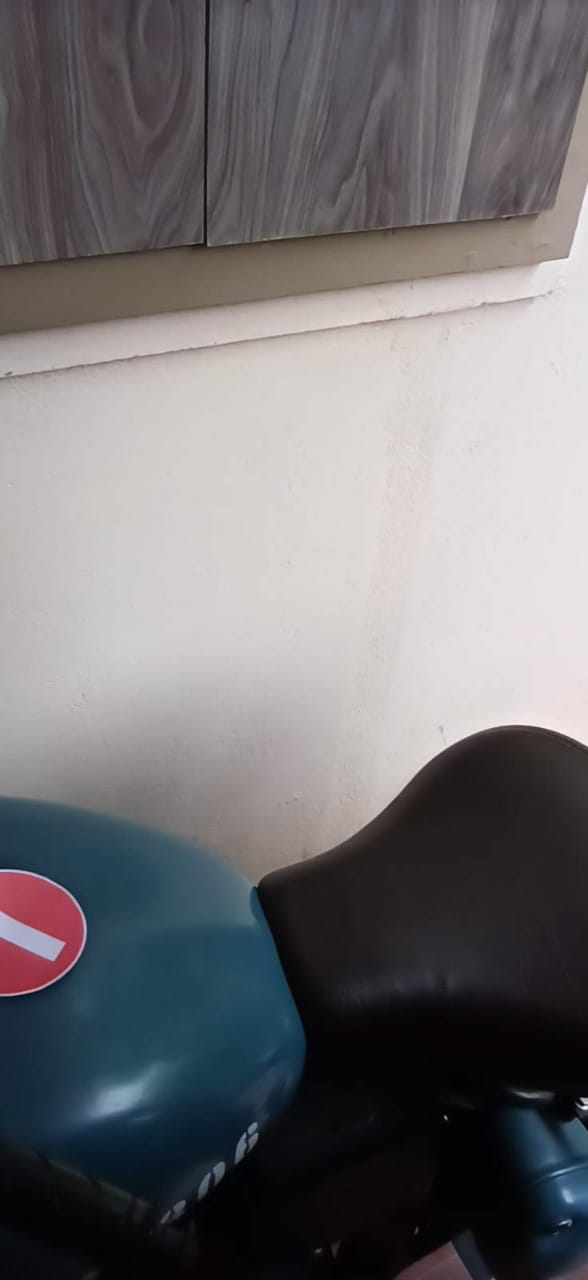NO ENTRY: (1, 861, 97, 1021)
